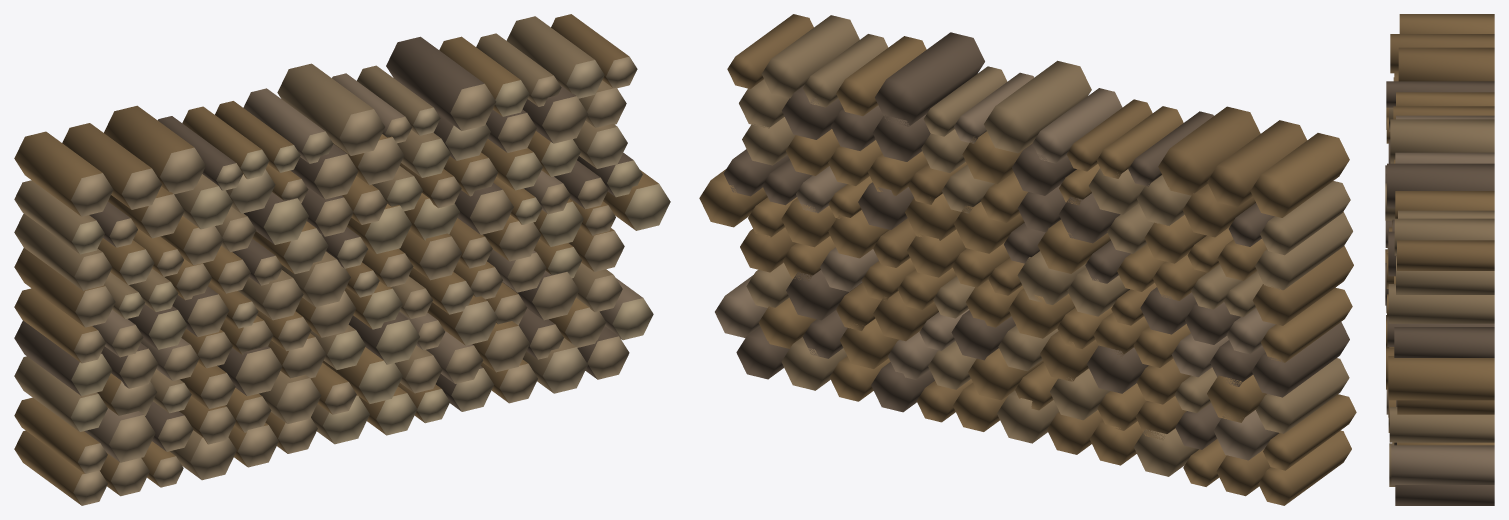
File: landscape.yard.log_pile_0.glb
3 renders of one model, left to right at view 1: azimuth 30°, elevation 25°; view 2: azimuth 150°, elevation 25°; view 3: azimuth 270°, elevation 25°, orthographic. The views are drawn at different scales.
Visible parts, largest first — view 1: main__paint_986, main__paint_764, main__paint_865, main__paint_a97, main__paint_654, main__paint_754, main__paint_987, main__paint_765, main__paint_a87; view 2: main__paint_764, main__paint_865, main__paint_654, main__paint_754, main__paint_765; view 3: main__paint_865, main__paint_654, main__paint_764, main__paint_754, main__paint_765.
Boxes of the visible parts, left/top/right/bottom form: main__paint_986: left=71, top=56, right=637, bottom=505; main__paint_764: left=14, top=36, right=658, bottom=505; main__paint_865: left=14, top=16, right=617, bottom=479; main__paint_a97: left=71, top=80, right=670, bottom=444; main__paint_654: left=14, top=36, right=633, bottom=451; main__paint_754: left=14, top=14, right=629, bottom=495; main__paint_987: left=119, top=60, right=627, bottom=413; main__paint_765: left=84, top=73, right=642, bottom=462; main__paint_a87: left=71, top=160, right=642, bottom=395; main__paint_764: left=699, top=36, right=1356, bottom=505; main__paint_865: left=739, top=15, right=1352, bottom=476; main__paint_654: left=723, top=32, right=1349, bottom=449; main__paint_754: left=727, top=14, right=1353, bottom=496; main__paint_765: left=715, top=72, right=1278, bottom=460; main__paint_865: left=1385, top=77, right=1494, bottom=486; main__paint_654: left=1385, top=81, right=1494, bottom=505; main__paint_764: left=1386, top=14, right=1494, bottom=445; main__paint_754: left=1385, top=34, right=1494, bottom=414; main__paint_765: left=1386, top=115, right=1494, bottom=484.
Bounding box in the file's own units: 2.25 × 1.2 × 0.4295.
